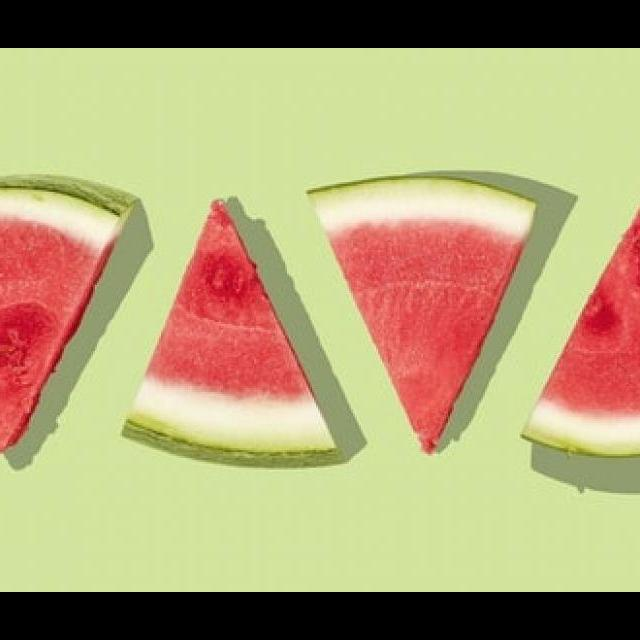watermelon: (306, 172, 540, 456), (120, 197, 344, 472), (0, 170, 135, 458), (519, 179, 640, 460)
